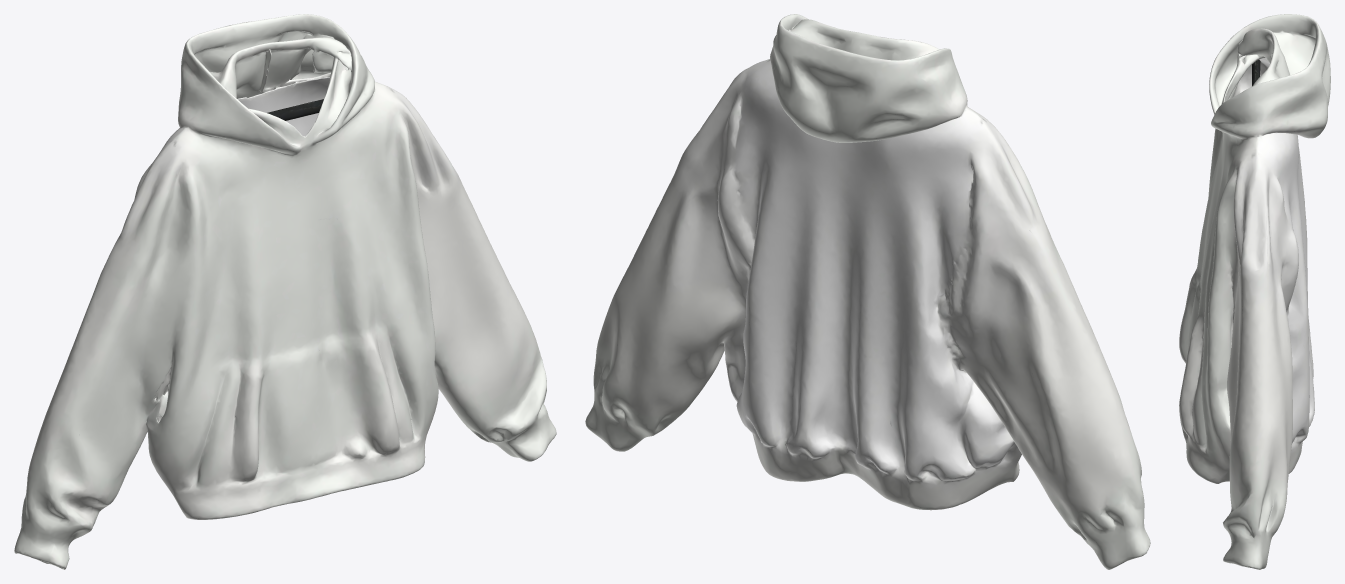
The model's file is hoodie.glb.
The picture shows the model from 3 angles, left to right: view 1: azimuth 30°, elevation 25°; view 2: azimuth 150°, elevation 25°; view 3: azimuth 270°, elevation 25°; orthographic projection. The views are drawn at different scales.
Visible parts, largest first — view 1: world; view 2: world; view 3: world.
Boxes of the visible parts, bbox=[...] form: world: bbox=[14, 14, 556, 569]; world: bbox=[585, 14, 1150, 569]; world: bbox=[1179, 14, 1330, 569].
Bounding box in the file's own units: 1 × 0.8308 × 0.272.
1 material, 1 textured.
